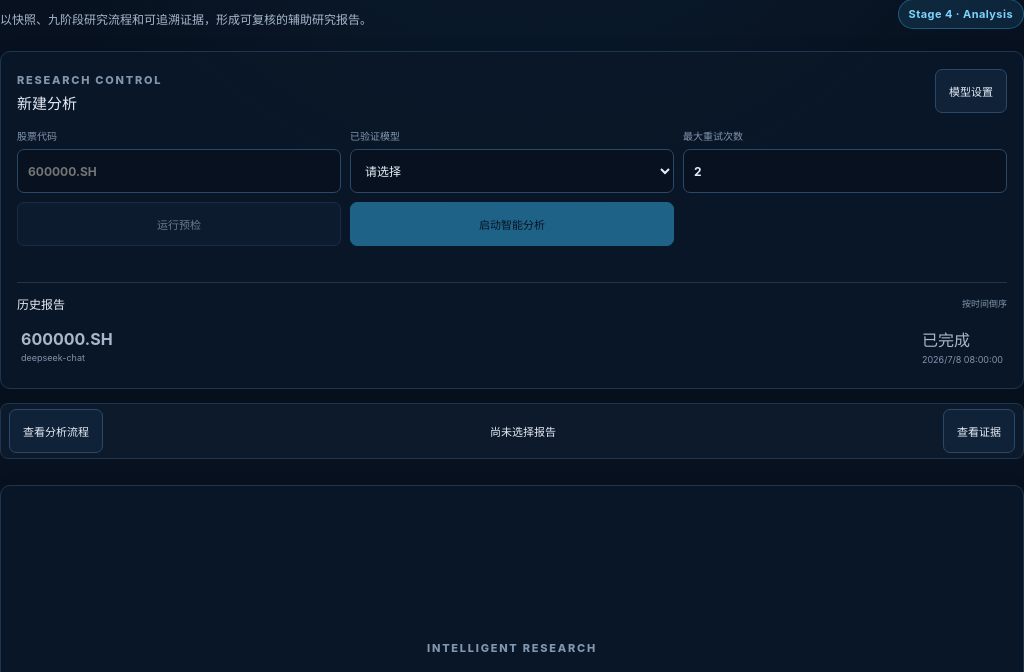
shows a complete report and synchronizes a selected claim with persisted evidence
Click the button with aria-label "查看 600000.SH" at [67, 339], box [17,320,1007,372]
(page scrolled)
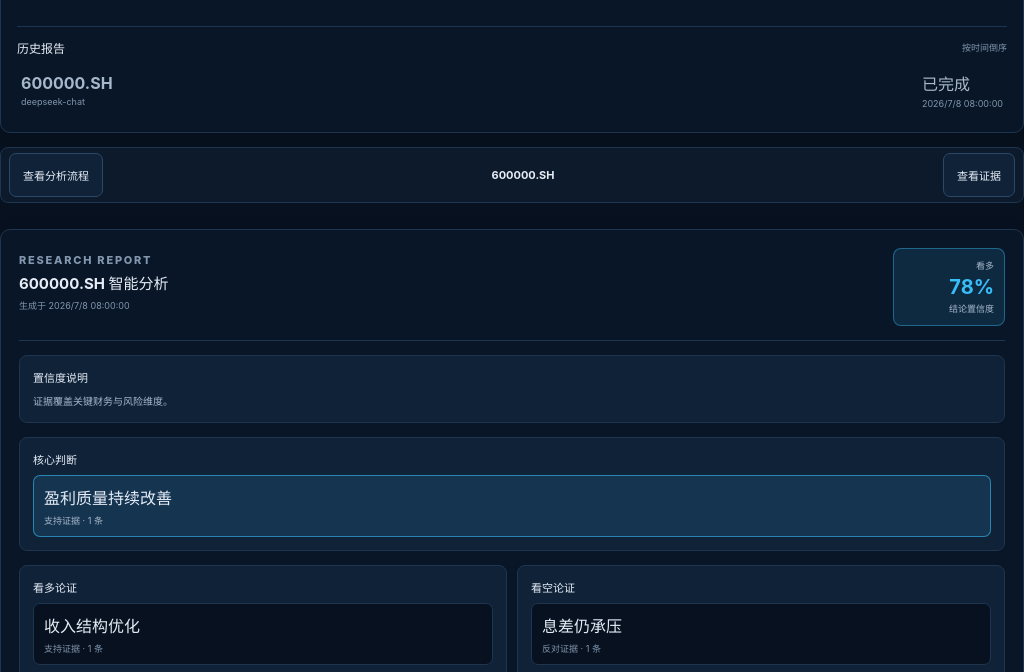
Now the text "看多" is shown, box [976,260,994,271]
Now the text "78%" is shown, box [949,275,994,299]
Click the button "盈利质量持续改善 支持证据 · 1 条" at [108, 498], box [33,475,991,537]
(page scrolled)
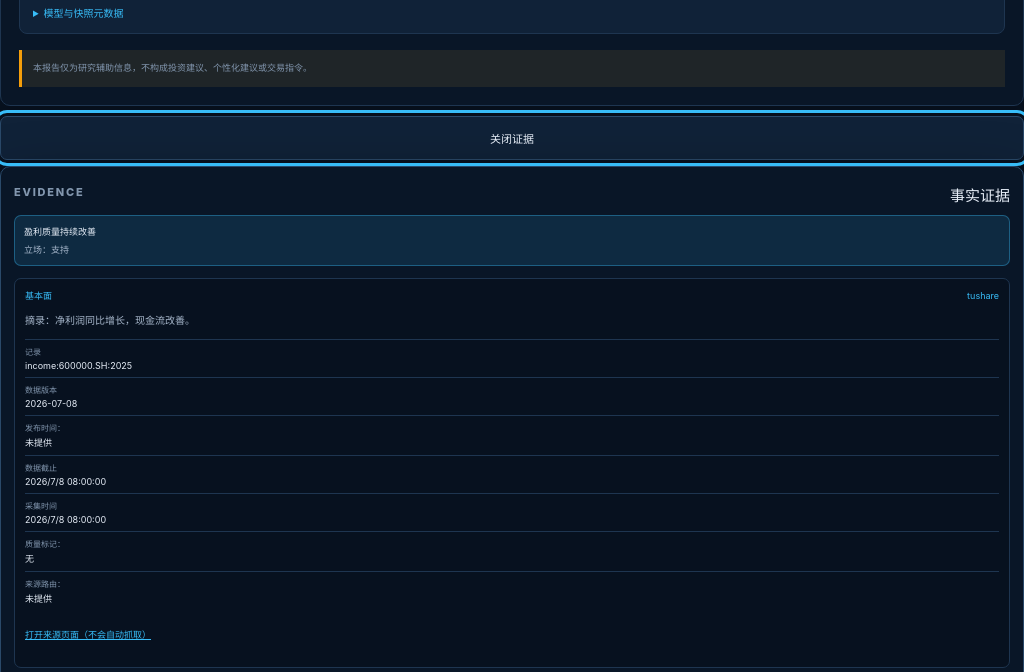
Now the element named "证据详情" shows "净利润同比增长，现金流改善。", box [55,314,195,326]
